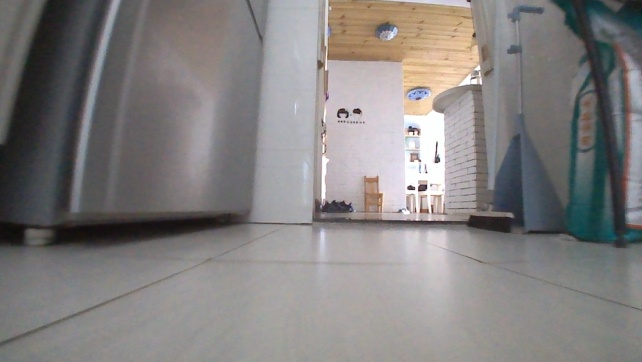refrigerator1: (0, 0, 275, 249)
